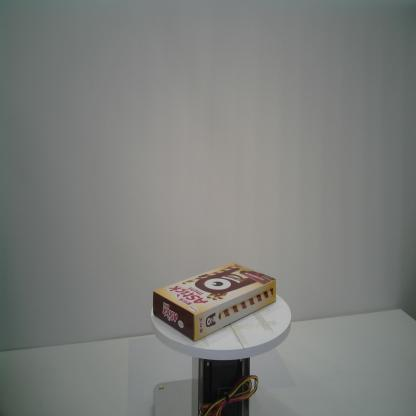Dessert: (152, 261, 276, 343)
